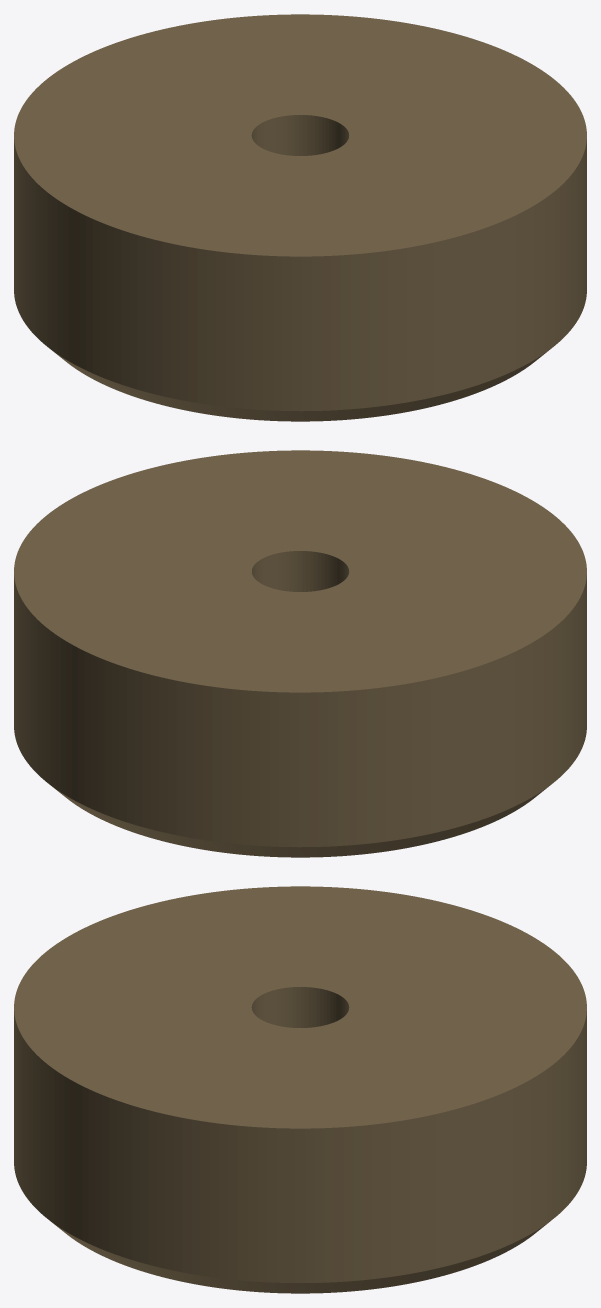
The model's file is small-feet__v0.glb.
3 views of the same model, one above another, from view 1: azimuth 30°, elevation 25°; view 2: azimuth 150°, elevation 25°; view 3: azimuth 270°, elevation 25° (orthographic).
Parts seen in each view (by area): view 1: small-feet; view 2: small-feet; view 3: small-feet.
Part boxes in pixels (x1,y1,x2,y2): small-feet: [14, 14, 586, 421]; small-feet: [14, 450, 586, 857]; small-feet: [14, 886, 586, 1293].
Bounding box in the file's own units: 0.02 × 0.0067 × 0.02.
